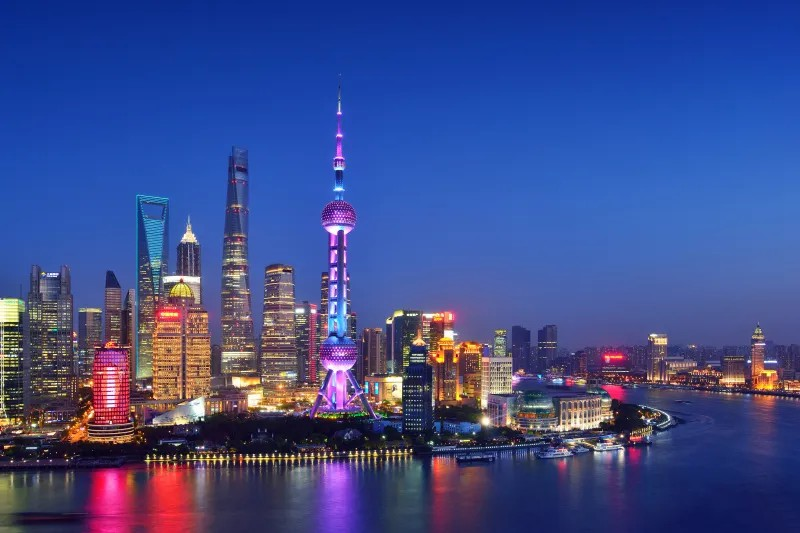Oriental: (311, 74, 374, 417)
